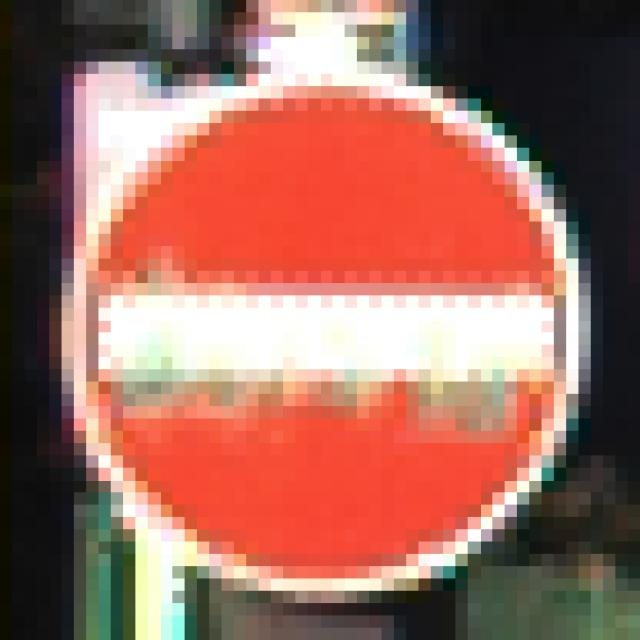No Entry: (63, 63, 580, 580)
